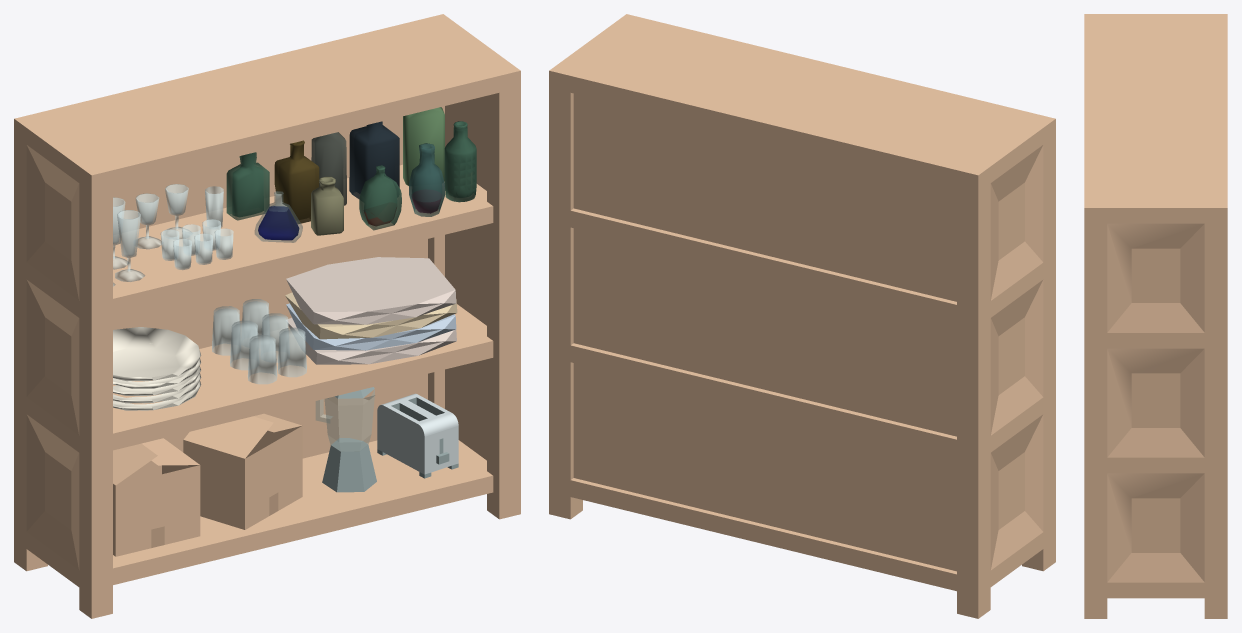
File: libreria.glb
3 renders of one model, left to right at view 1: azimuth 30°, elevation 25°; view 2: azimuth 150°, elevation 25°; view 3: azimuth 270°, elevation 25°, orthographic. The views are drawn at different scales.
Parts seen in each view (by area): view 1: libreria, tovaglie, cardboardBoxClosed(Clone).001, cardboardBoxClosed(Clone), piatti, toaster(Clone), blender, bottle3, bottle4, bottle7, bottle2, bottle10.001 (+16 smaller); view 2: libreria; view 3: libreria.
Part boxes in pixels (x1,y1,x2,y2): libreria: (14,14,520,618); tovaglie: (285,257,457,364); cardboardBoxClosed(Clone).001: (183,413,302,529); cardboardBoxClosed(Clone): (113,438,200,556); piatti: (113,327,201,410); toaster(Clone): (377,393,458,478); blender: (315,387,376,492); bottle3: (349,121,399,199); bottle4: (274,140,319,224); bottle7: (226,152,269,220); bottle2: (403,107,444,185); bottle10.001: (444,121,476,201); libreria: (549,14,1055,618); libreria: (1084,14,1227,618).
Size of the model in its own units: 0.8 by 0.79 by 0.25.
